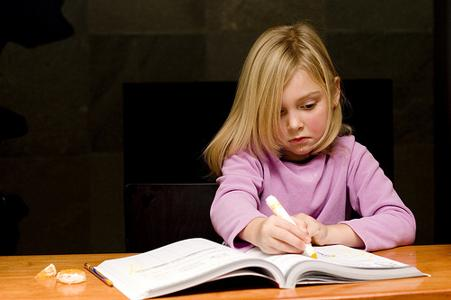person: (207, 24, 417, 256)
